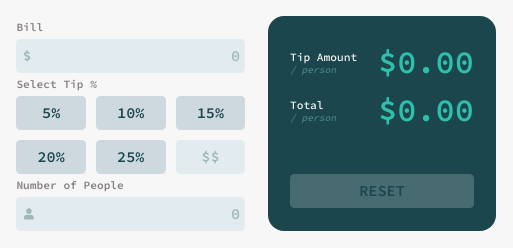
Test: Tip: Custom amount
In the field labelled "Number of People": x=131, y=214 [16,196,245,231], type "10"
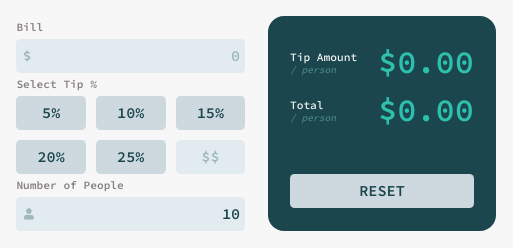
In the field labelled "Bill": x=131, y=56 [16,39,245,73], type "500"
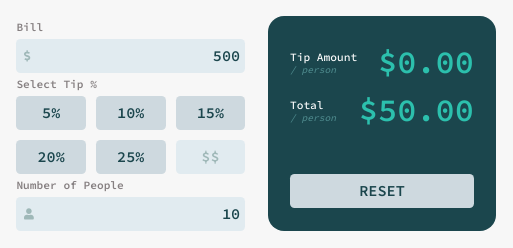
In the field with test id "custom-tip": x=210, y=157 [176,140,245,174], type "50"
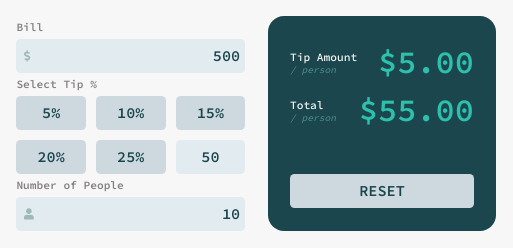
Check: the text with test id "subtotal-amount-bill" reads "$55.00", box [359,98,474,124]
Check: the text with test id "subtotal-amount-tip" reads "$5.00", box [378,50,474,76]
